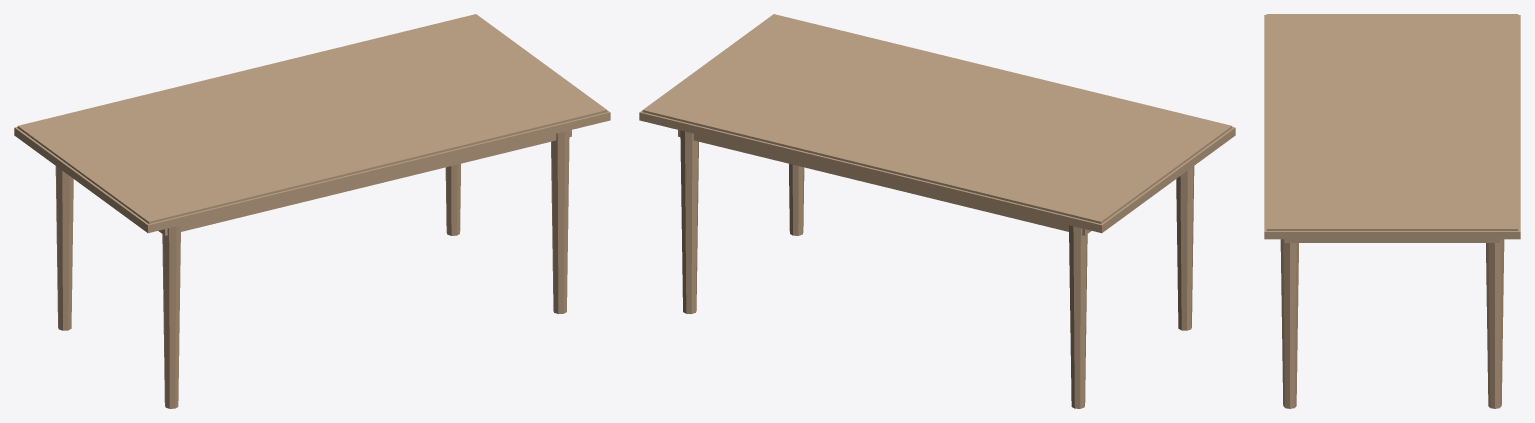
File: dining_table.glb
3 views of the same model, side by side, from view 1: azimuth 30°, elevation 25°; view 2: azimuth 150°, elevation 25°; view 3: azimuth 270°, elevation 25° (orthographic). The views are drawn at different scales.
Visible parts, largest first — view 1: asset_dining_table_Body; view 2: asset_dining_table_Body; view 3: asset_dining_table_Body.
Part boxes in pixels (left/top/right/bottom): asset_dining_table_Body: left=14, top=14, right=610, bottom=408; asset_dining_table_Body: left=639, top=14, right=1235, bottom=408; asset_dining_table_Body: left=1264, top=14, right=1520, bottom=408.
Bounding box in the file's own units: 1.83 × 0.762 × 0.9144.
